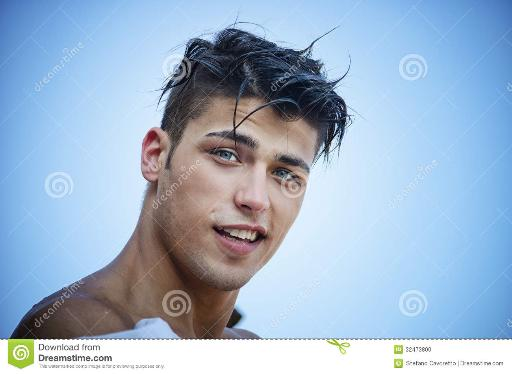left_eye: (272, 168, 303, 183)
left_lip_corner: (261, 233, 274, 244)
right_eye: (205, 148, 240, 166)
right_lip_corner: (209, 224, 224, 237)
